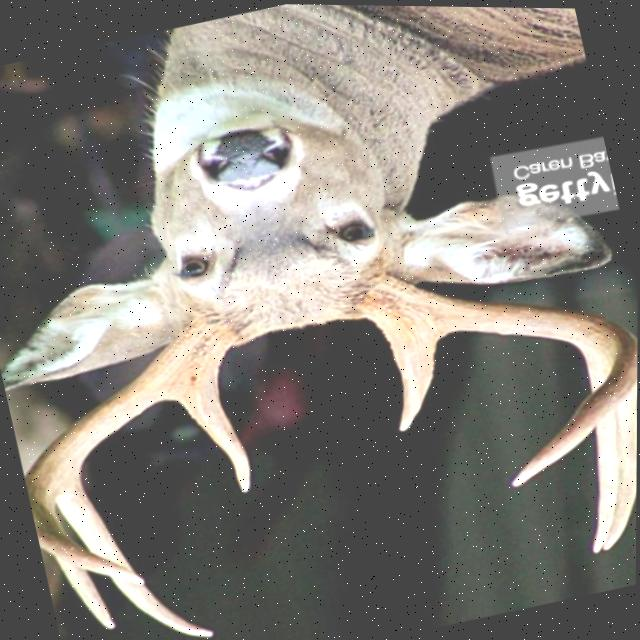L-F: (354, 271, 638, 486)
L-G1: (382, 328, 442, 431)
R-F: (25, 310, 236, 584)
R-G1: (177, 375, 250, 492)
